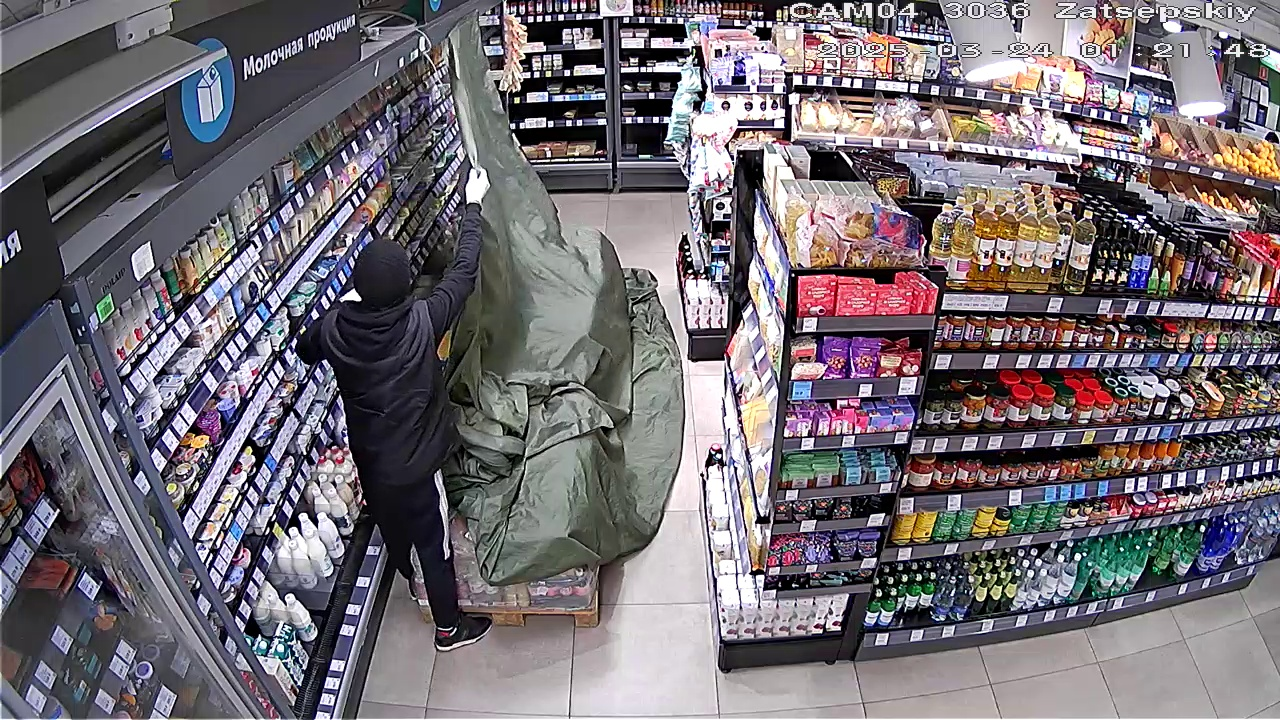Human: (309, 166, 494, 648)
dome: (444, 29, 683, 577)
